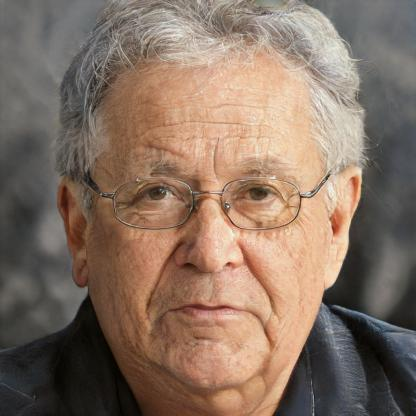glasses: (96, 172, 322, 235)
